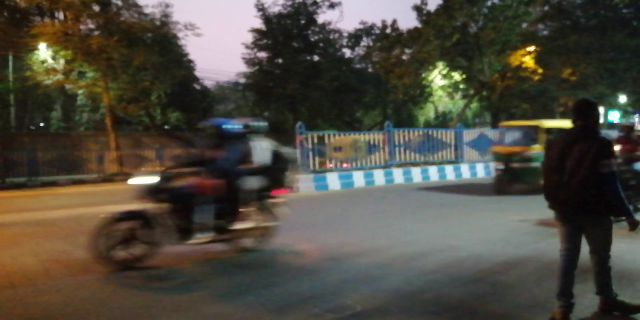Autorickshaw: (491, 117, 542, 191)
Motorbike: (90, 114, 293, 268)
